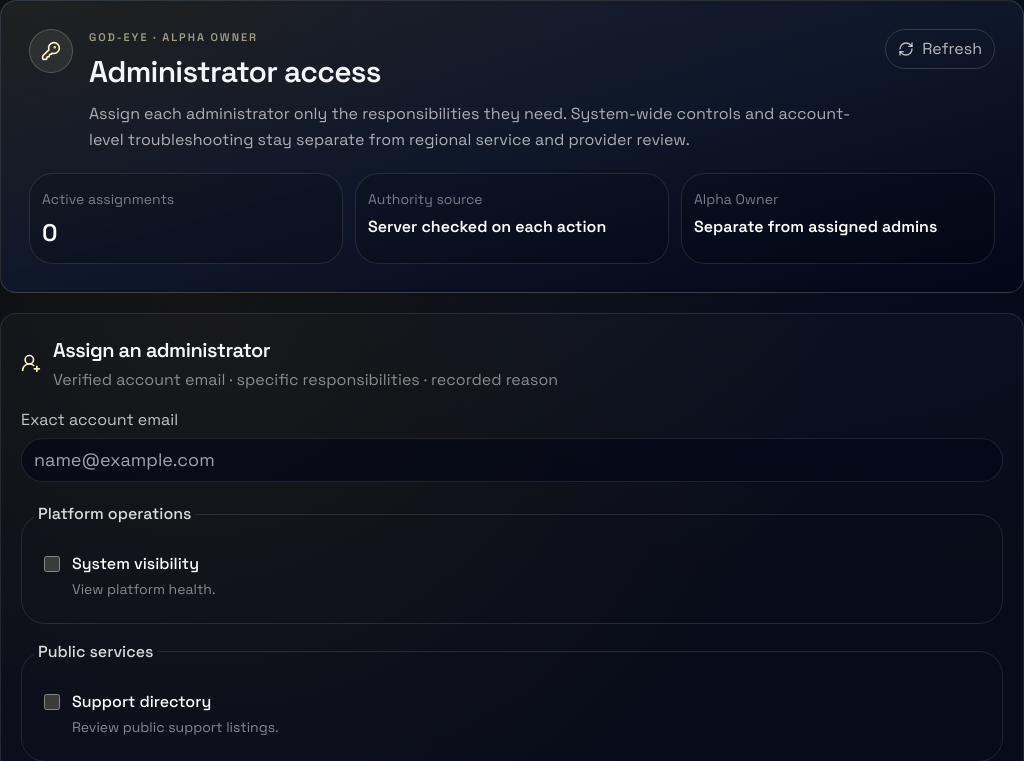
Test: AdminRolesPage › can assign one verified account a global responsibility and a separate regional responsibility
In the field labelled "Exact account email": [512, 460] box [21, 438, 1003, 482], type "reviewer@example.com"
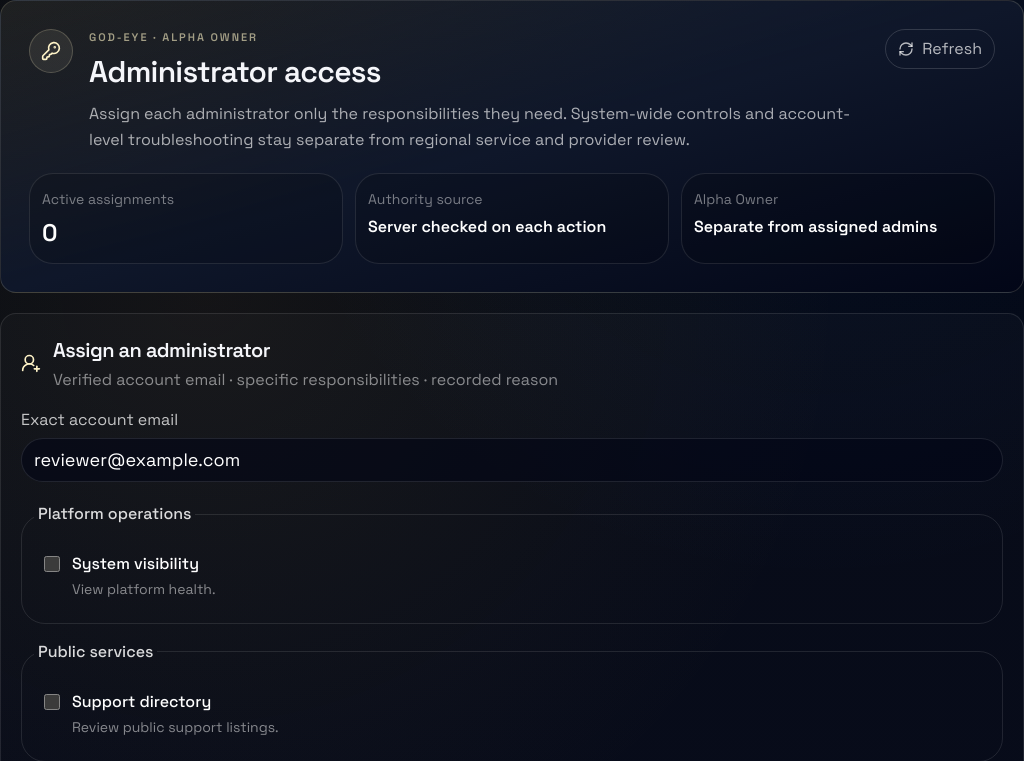
Click the checkbox labelled "System visibility View platform health.": [52, 564] box [44, 556, 60, 572]
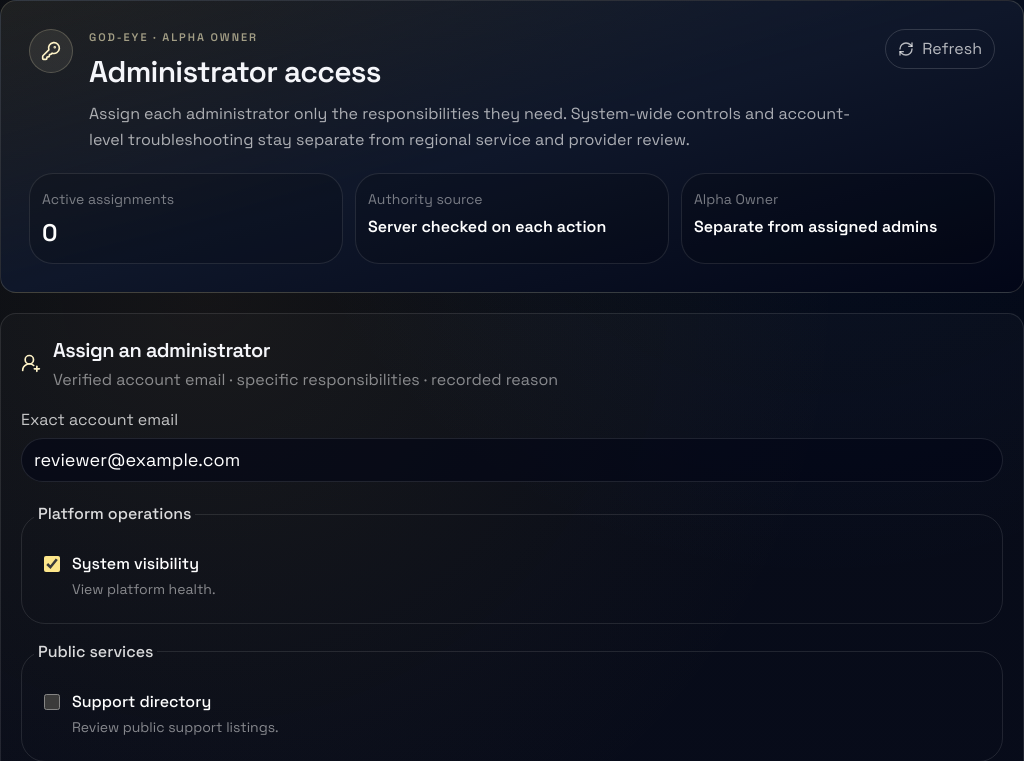
Click the checkbox labelled "Support directory Review public support listings.": [52, 702] box [44, 694, 60, 710]
(page scrolled)
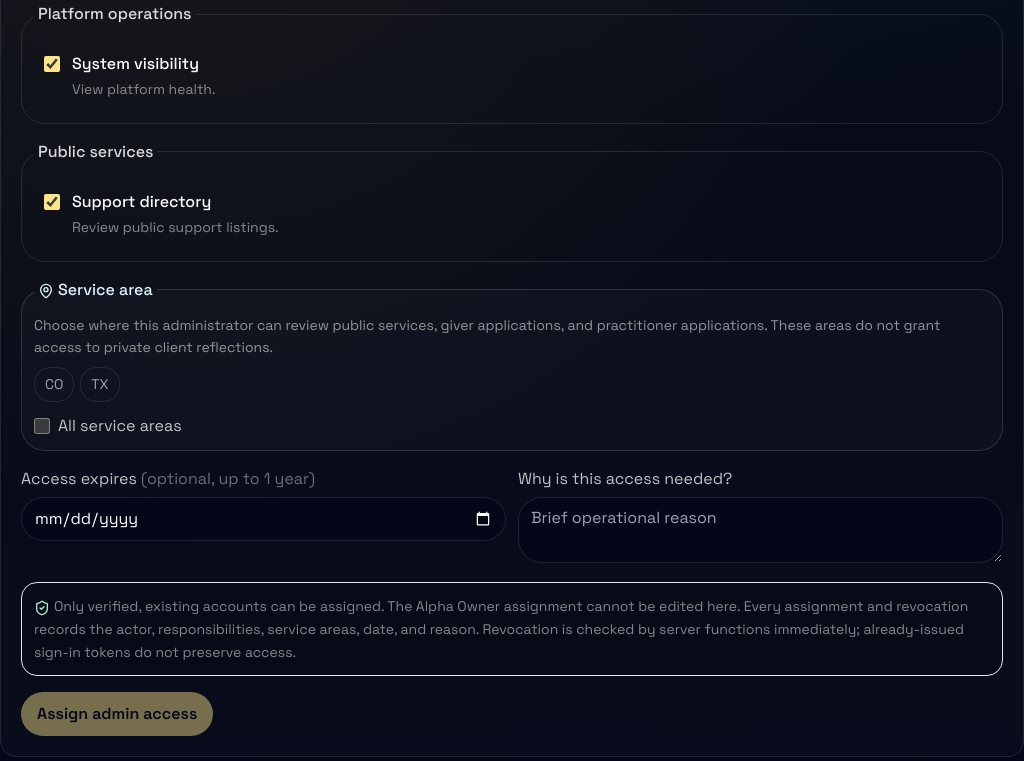
Click the button "CO": [54, 385] box [34, 367, 74, 402]
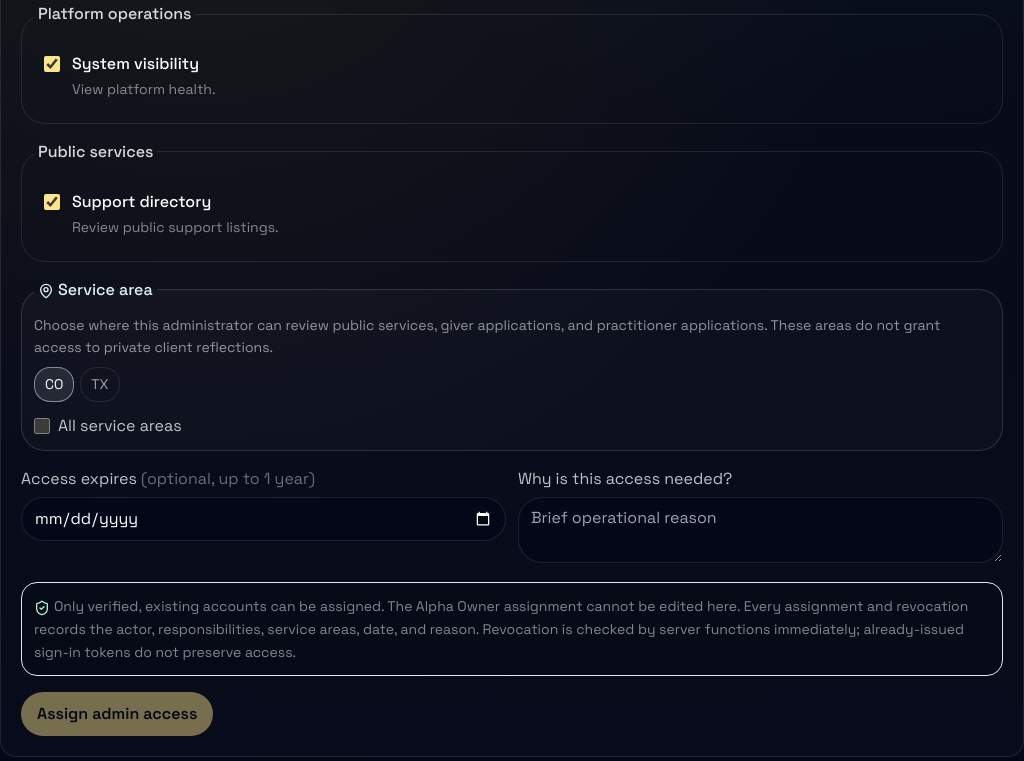
In the text box labelled "Why is this access needed?": [760, 530] box [518, 497, 1003, 563], type "Review Colorado support directory source records."
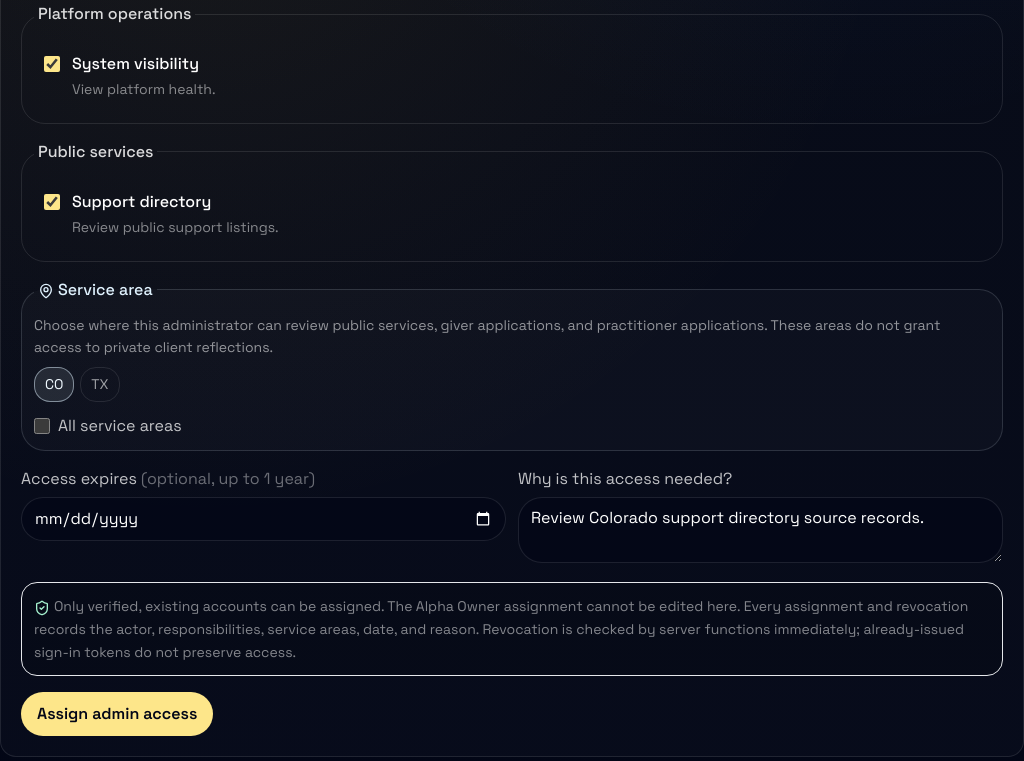
Check: the button "Assign admin access" is enabled
Click the button "Assign admin access": [117, 714] box [21, 692, 213, 736]
(page scrolled)
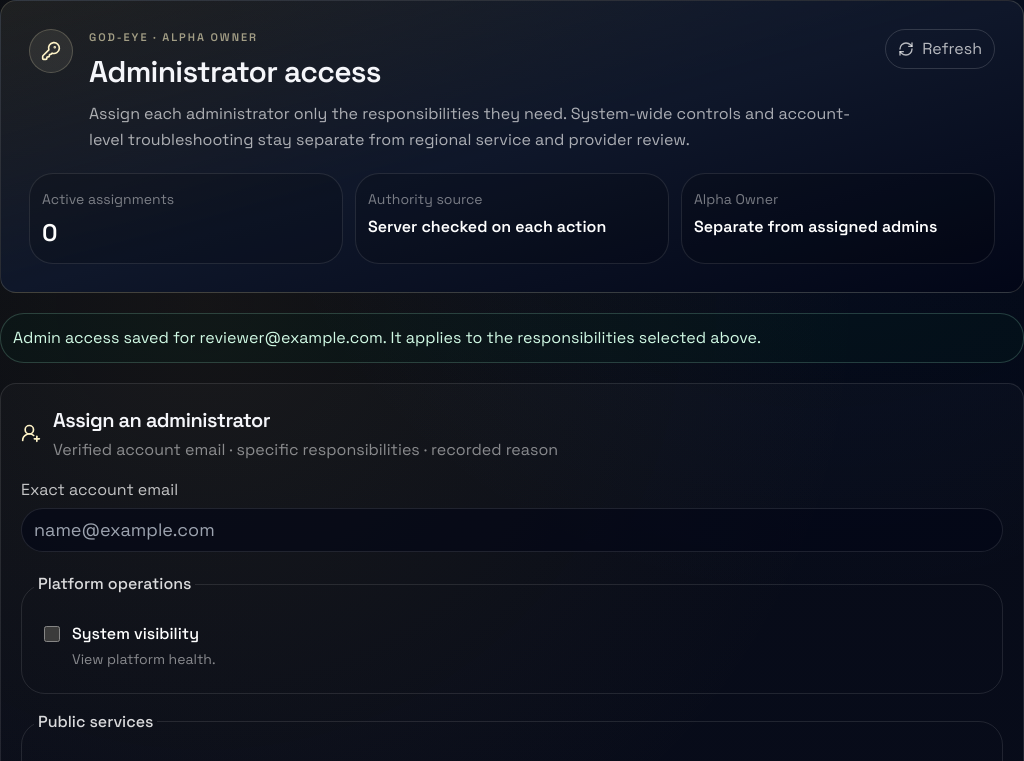
Check: the text "Admin access saved for reviewer@example.com" is shown, box [13, 327, 761, 348]
